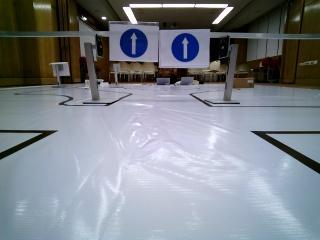straight: (108, 20, 158, 60), (157, 31, 209, 66)
